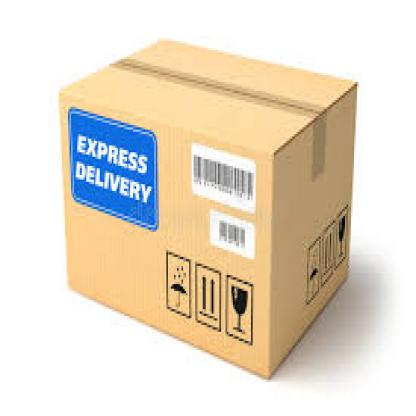paquete: (50, 9, 366, 387)
